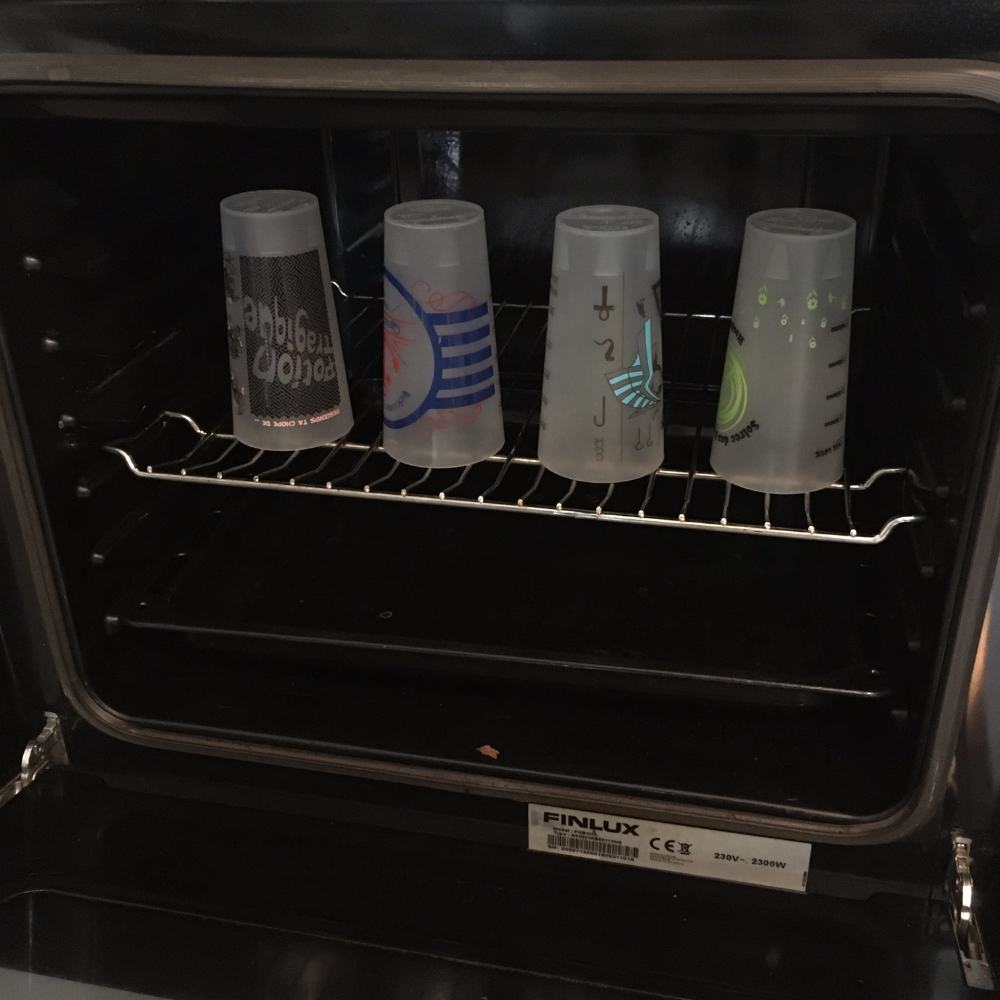ecocup: (708, 208, 857, 495), (537, 205, 665, 483), (220, 189, 354, 451), (382, 199, 505, 468)
